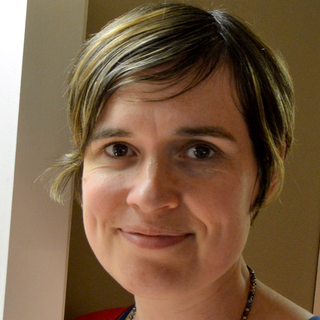eye: (165, 138, 229, 166), (93, 139, 144, 166)
